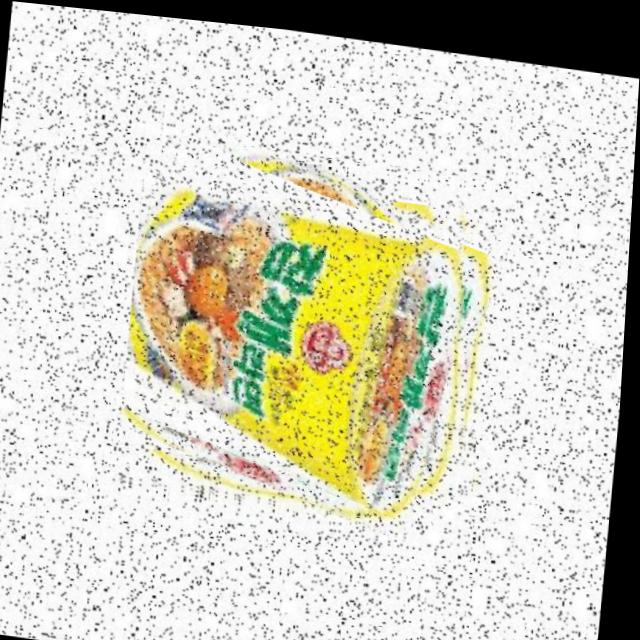Miscellaneous: (118, 127, 500, 522)
